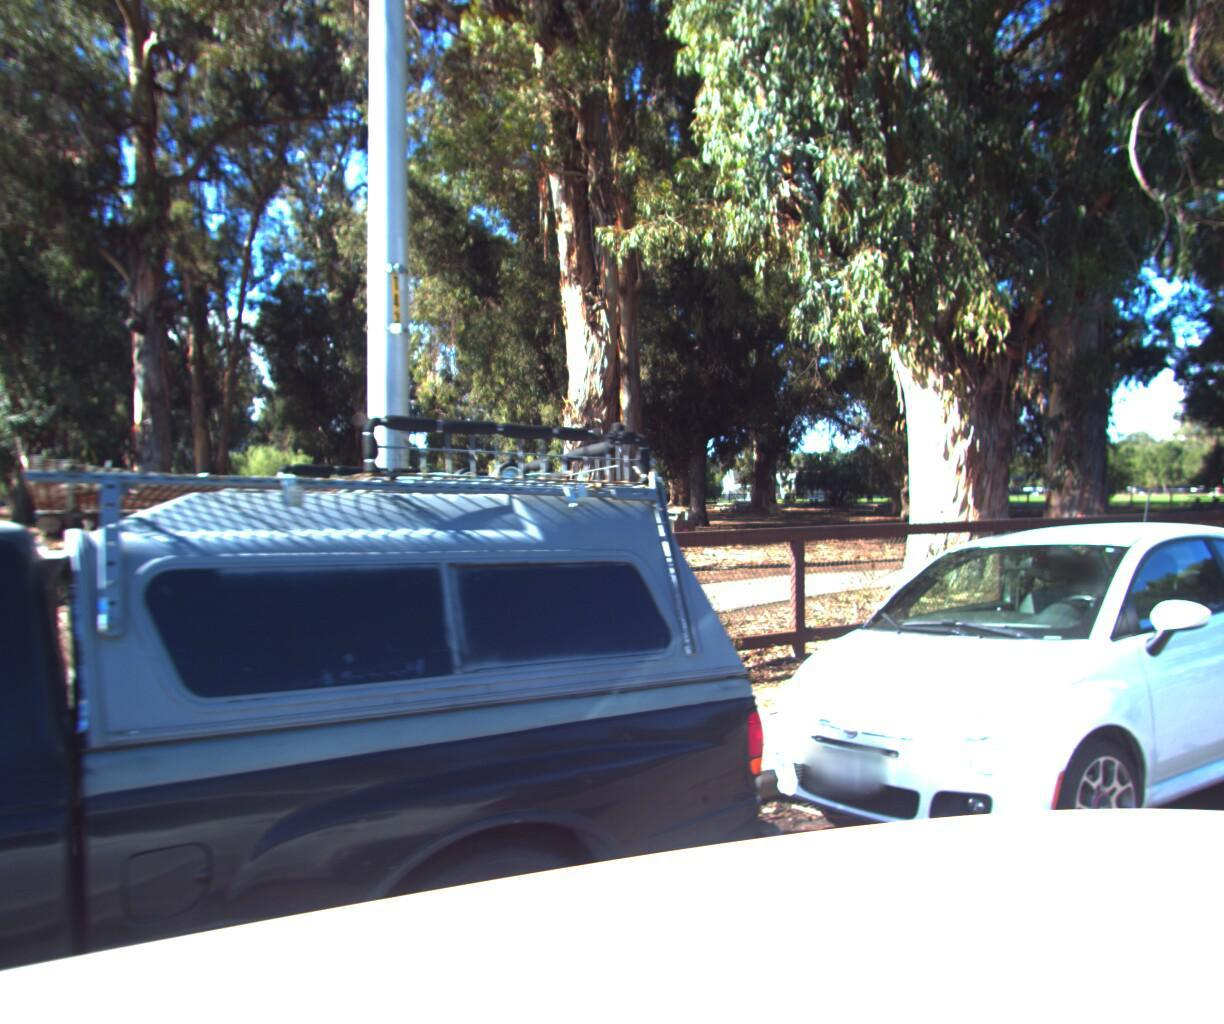car: (0, 0, 856, 1024), (734, 514, 1224, 956), (1168, 513, 1224, 795)
